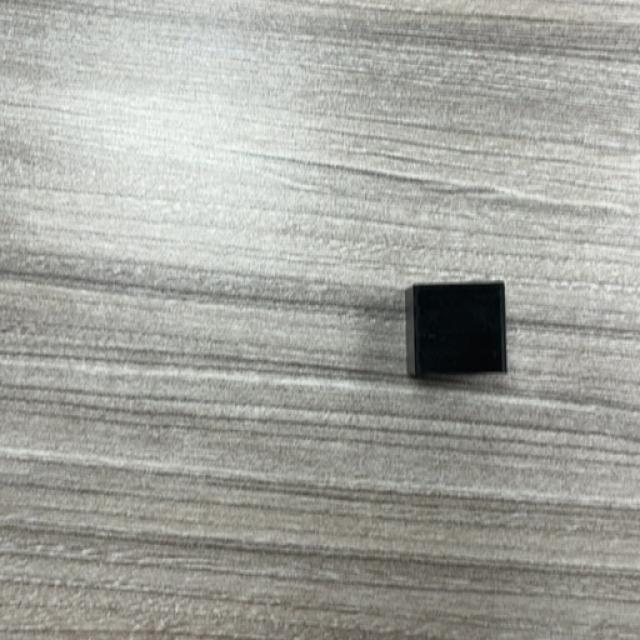Negro: (405, 281, 508, 379)
